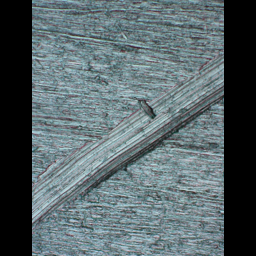d: (32, 48, 223, 233)
